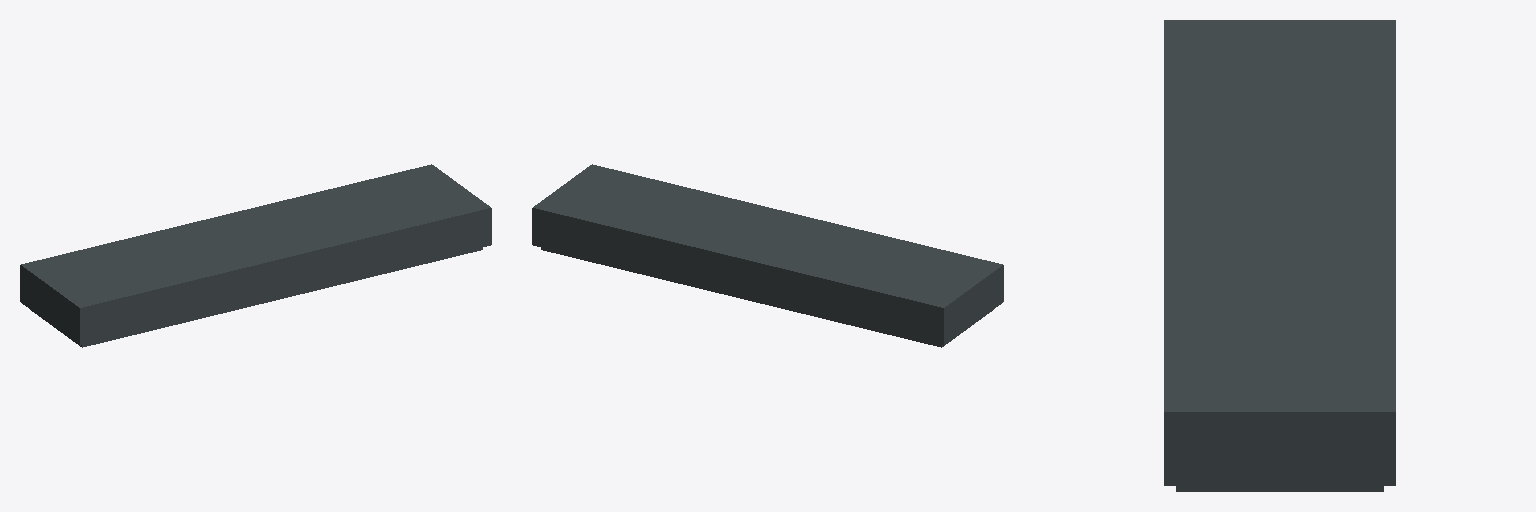
The robot description file, URDF, robot "2431__dark_bluish_gray":
<?xml version="1.0"?>
<robot name="2431__dark_bluish_gray">
  <link name="2431__dark_bluish_gray">
    <inertial>
      <origin xyz="0.000000 0.000000 -0.001589" rpy="0 0 0"/>
      <mass value="0.000854"/>
      <inertia ixx="5.220835397e-09" ixy="1.979094239e-25" ixz="-2.582345859e-25" iyy="7.334529236e-08" iyz="-1.437261319e-26" izz="7.712696893e-08"/>
    </inertial>
    <visual>
      <geometry>
        <mesh filename="../meshes/visual/2431.obj" scale="1 1 1"/>
      </geometry>
      <material name="2431__dark_bluish_gray_color">
        <color rgba="0.320 0.350 0.360 1.000"/>
      </material>
    </visual>
    <collision>
      <geometry>
        <mesh filename="../meshes/collision/2431_hull.obj" scale="1 1 1"/>
      </geometry>
    </collision>
  </link>
</robot>

--- Facts derived from the render (not from the file) ---
Views: 3 orthographic renders of the robot side by side, from view 1: azimuth 30°, elevation 25°; view 2: azimuth 150°, elevation 25°; view 3: azimuth 270°, elevation 25°.
Model 2431__dark_bluish_gray with 1 links and 0 joints (none), rooted at 2431__dark_bluish_gray, posed all joints at 0.
Visible links, largest first — view 1: 2431__dark_bluish_gray; view 2: 2431__dark_bluish_gray; view 3: 2431__dark_bluish_gray.
Boxes of the visible links, x1,y1,x2,y2 form: 2431__dark_bluish_gray: (20,164,491,347); 2431__dark_bluish_gray: (532,164,1003,347); 2431__dark_bluish_gray: (1164,20,1395,491).
Bounding box of the posed robot: 0.032 × 0.008 × 0.0032 m (x, y, z).
1 mesh visuals loaded from 1 distinct referenced files (1 OBJ).
